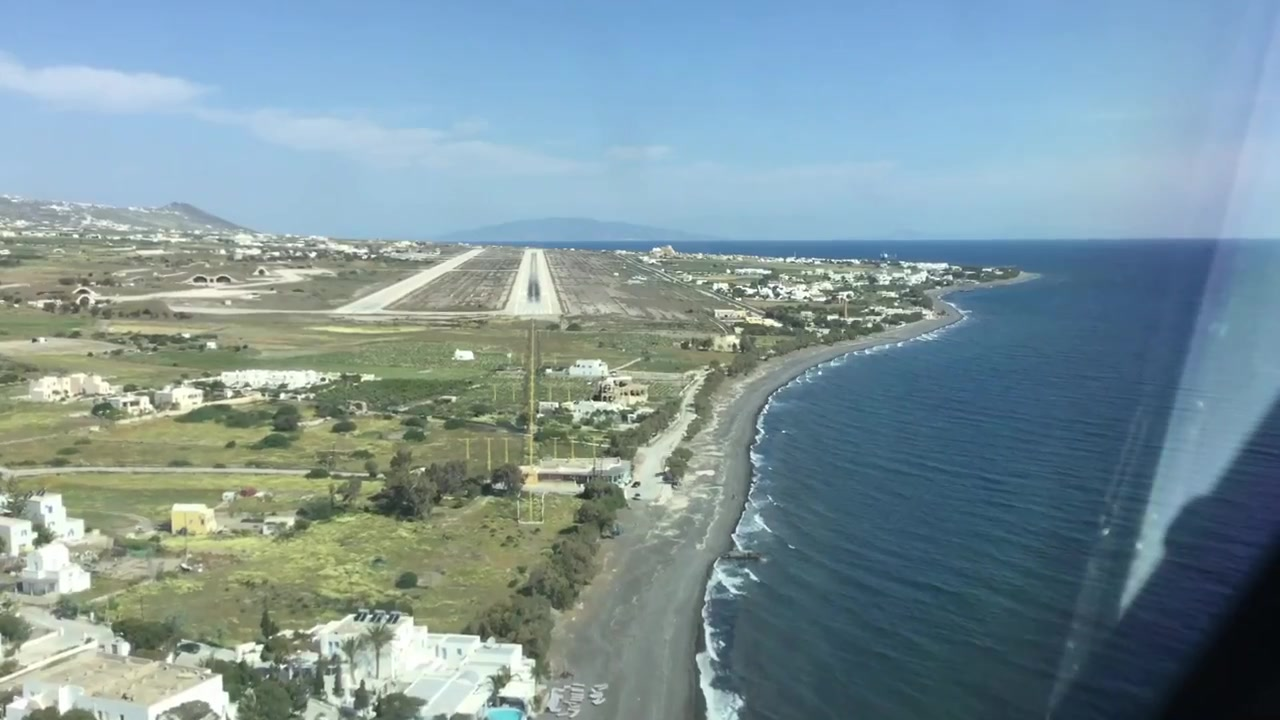entrance: (513, 308, 550, 315)
runway: (341, 248, 480, 314), (503, 249, 561, 317)
